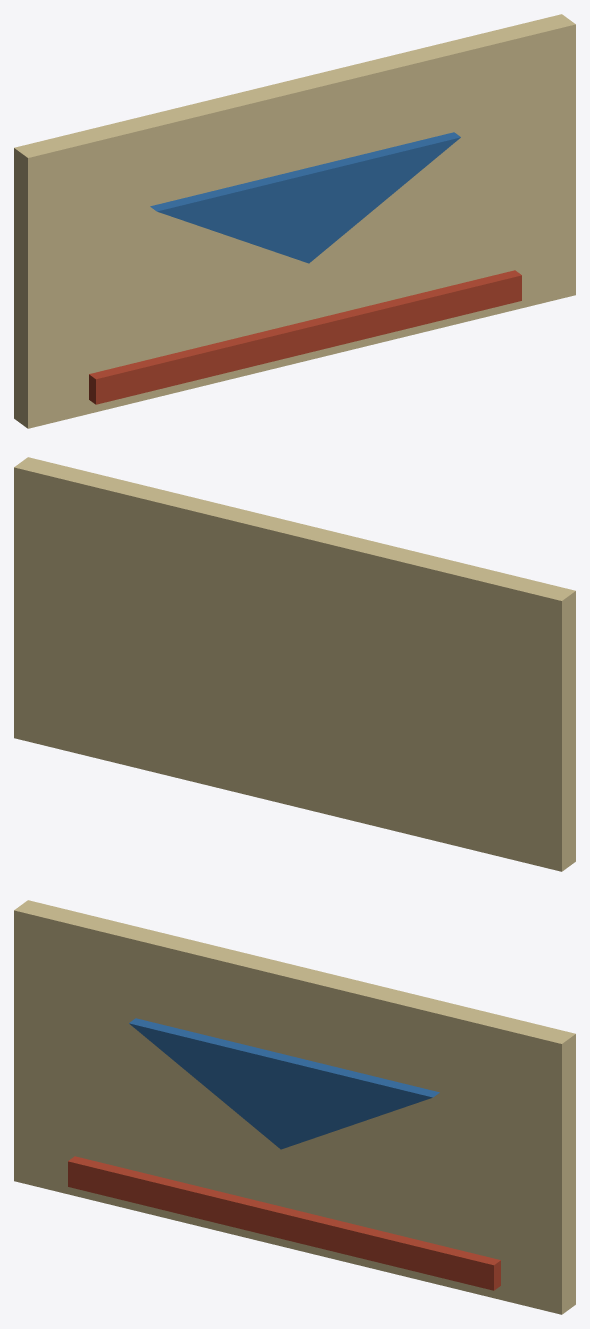
File: boat-ticket.glb
3 renders of one model, top to bottom at view 1: azimuth 30°, elevation 25°; view 2: azimuth 150°, elevation 25°; view 3: azimuth 330°, elevation 25°, orthographic.
Parts seen in each view (by area): view 1: boat-ticket; view 2: boat-ticket; view 3: boat-ticket.
Part boxes in pixels (<box>): boat-ticket: <box>14,14,575,428</box>; boat-ticket: <box>14,457,575,871</box>; boat-ticket: <box>14,900,575,1314</box>.
Size of the model in its own units: 0.9 by 0.425 by 0.06.
